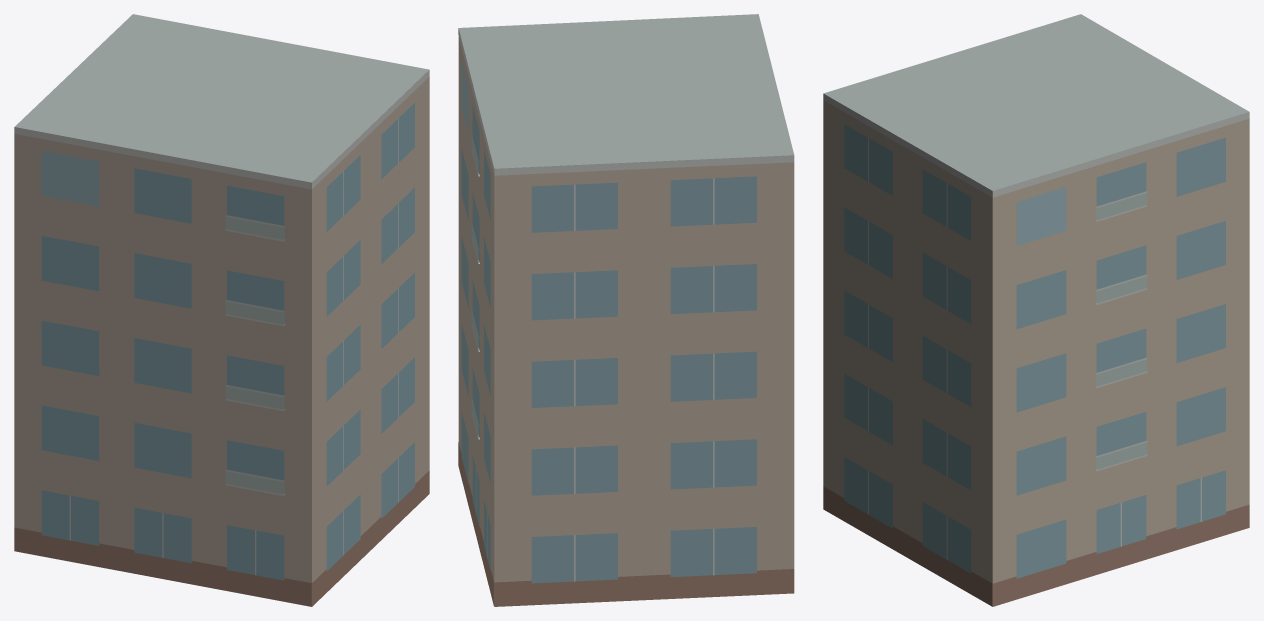
File: survey-upis-32756818.glb
3 views of the same model, side by side, from view 1: azimuth 30°, elevation 25°; view 2: azimuth 150°, elevation 25°; view 3: azimuth 270°, elevation 25° (orthographic). The views are drawn at different scales.
Parts seen in each view (by area): view 1: survey-upis-32756818.tmp; view 2: survey-upis-32756818.tmp; view 3: survey-upis-32756818.tmp.
Part boxes in pixels (box(x1,y1,x2,y2)): survey-upis-32756818.tmp: box(14, 14, 429, 606); survey-upis-32756818.tmp: box(458, 14, 794, 606); survey-upis-32756818.tmp: box(823, 14, 1249, 606).
Bounding box in the file's own units: 13.93 × 15.25 × 14.18.
